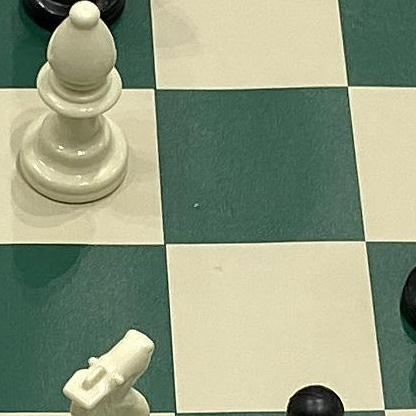black-pawn: (236, 371, 372, 416)
white-bishop: (1, 0, 148, 216)
white-knight: (15, 299, 181, 416)
